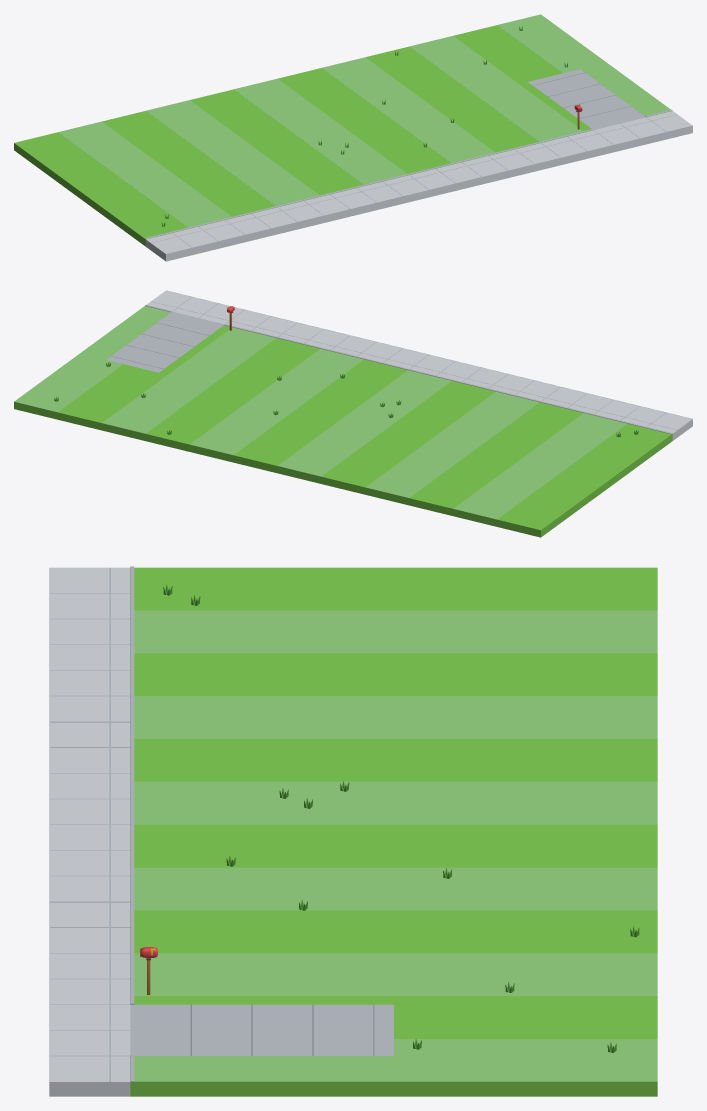
The model's file is lote_30x15.glb.
3 views of the same model, one above another, from view 1: azimuth 30°, elevation 25°; view 2: azimuth 150°, elevation 25°; view 3: azimuth 270°, elevation 25° (orthographic). The views are drawn at different scales.
Parts seen in each view (by area): view 1: gramado, lote_30x15; view 2: gramado, lote_30x15; view 3: gramado, lote_30x15.
Part boxes in pixels (<box>): gramado: <box>14,14,670,246</box>; lote_30x15: <box>145,69,692,261</box>; gramado: <box>14,306,672,537</box>; lote_30x15: <box>106,290,692,440</box>; gramado: <box>130,567,657,1096</box>; lote_30x15: <box>49,566,393,1096</box>.
Size of the model in its own units: 30 by 1.7 by 15.
Materials: 1 (1 with a texture image).
